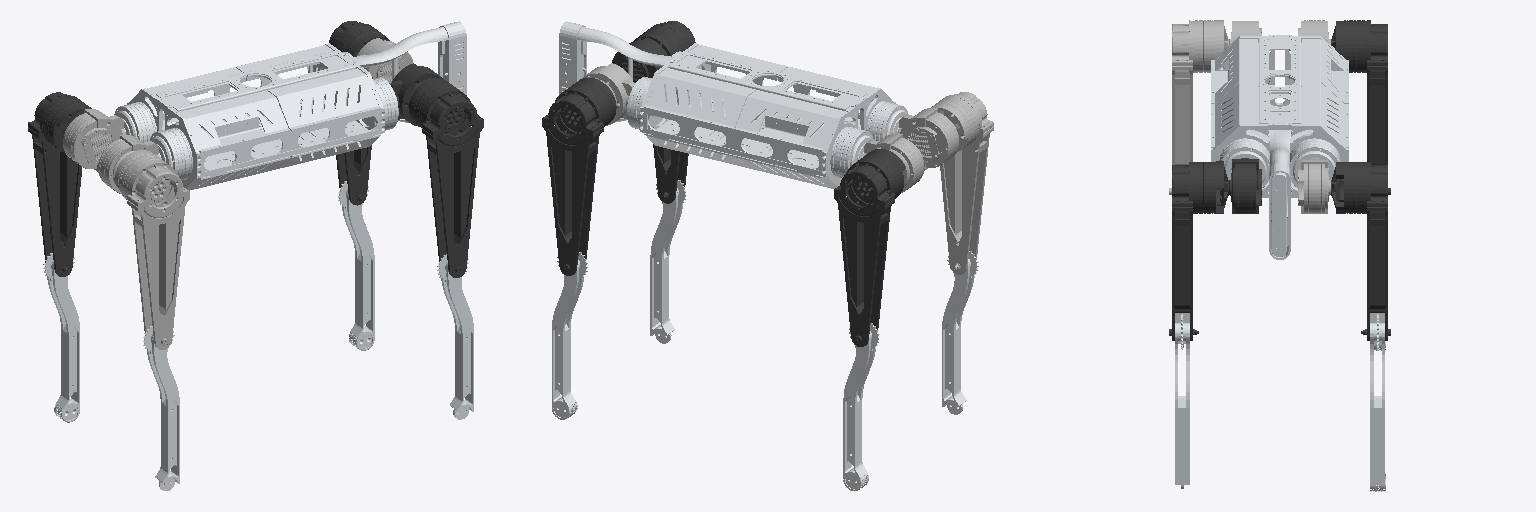
URDF robot description (scotty_description):
<?xml version="1.0" encoding="utf-8"?>
<!-- This URDF was automatically created by SolidWorks to URDF Exporter! Originally created by [author] ([email redacted]) 
     Commit Version: 1.6.0-4-g7f85cfe  Build Version: 1.6.7995.38578
     For more information, please see http://wiki.ros.org/sw_urdf_exporter -->
<robot
  name="scotty_description">
  <link
    name="base_link">
    <inertial>
      <origin
        xyz="0.0314483846788916 -6.55218724121662E-05 0.0248392392910642"
        rpy="0 0 0" />
      <mass
        value="3.85607896940888" />
      <inertia
        ixx="0.0138867117837616"
        ixy="-2.90278660215377E-08"
        ixz="-2.58875884175343E-06"
        iyy="0.0172236043367669"
        iyz="-8.35666921709627E-09"
        izz="0.0236113226656801" />
    </inertial>
    <visual>
      <origin
        xyz="0 0 0"
        rpy="0 0 0" />
      <geometry>
        <mesh
          filename="package://scotty_description/meshes/base_link.STL" />
      </geometry>
      <material
        name="">
        <color
          rgba="0.898039215686275 0.917647058823529 0.929411764705882 1" />
      </material>
    </visual>
    <collision>
      <origin
        xyz="0 0 0"
        rpy="0 0 0" />
      <geometry>
        <mesh
          filename="package://scotty_description/meshes/base_link.STL" />
      </geometry>
    </collision>
  </link>
  <link
    name="abad_FR_link">
    <inertial>
      <origin
        xyz="0.0589056087369735 -0.000893751193795894 1.31027647427551E-05"
        rpy="0 0 0" />
      <mass
        value="0.415086541078643" />
      <inertia
        ixx="0.000347299510368134"
        ixy="-9.24015776265909E-07"
        ixz="-1.74428373569239E-07"
        iyy="0.000490589240902945"
        iyz="1.49882254445195E-08"
        izz="0.000292030535672053" />
    </inertial>
    <visual>
      <origin
        xyz="0 0 0"
        rpy="0 0 0" />
      <geometry>
        <mesh
          filename="package://scotty_description/meshes/abad_FR_link.STL" />
      </geometry>
      <material
        name="">
        <color
          rgba="0.298039215686275 0.298039215686275 0.298039215686275 1" />
      </material>
    </visual>
    <collision>
      <origin
        xyz="0 0 0"
        rpy="0 0 0" />
      <geometry>
        <mesh
          filename="package://scotty_description/meshes/abad_FR_link.STL" />
      </geometry>
    </collision>
  </link>
  <joint
    name="abad_FR_joint"
    type="revolute">
    <origin
      xyz="0.2485 -0.065 0.025"
      rpy="0 0 0" />
    <parent
      link="base_link" />
    <child
      link="abad_FR_link" />
    <axis
      xyz="1 0 0" />
    <limit
      lower="-0.65"
      upper="0.65"
      effort="25"
      velocity="3" />
  </joint>
  <link
    name="hip_FR_link">
    <inertial>
      <origin
        xyz="-0.000456154664474892 -0.0698896205031284 -0.0639468843908812"
        rpy="0 0 0" />
      <mass
        value="1.05302815476358" />
      <inertia
        ixx="0.00387984063210811"
        ixy="-1.21559516987344E-06"
        ixz="-5.21353454625218E-06"
        iyy="0.00443119515122231"
        iyz="-1.22999714185811E-06"
        izz="0.000775321583761757" />
    </inertial>
    <visual>
      <origin
        xyz="0 0 0"
        rpy="0 0 0" />
      <geometry>
        <mesh
          filename="package://scotty_description/meshes/hip_FR_link.STL" />
      </geometry>
      <material
        name="">
        <color
          rgba="0.298039215686275 0.298039215686275 0.298039215686275 1" />
      </material>
    </visual>
    <collision>
      <origin
        xyz="0 0 0"
        rpy="0 0 0" />
      <geometry>
        <mesh
          filename="package://scotty_description/meshes/hip_FR_link.STL" />
      </geometry>
    </collision>
  </link>
  <joint
    name="hip_FR_joint"
    type="revolute">
    <origin
      xyz="0.065 -0.03 0"
      rpy="0 0 0" />
    <parent
      link="abad_FR_link" />
    <child
      link="hip_FR_link" />
    <axis
      xyz="0 1 0" />
    <limit
      lower="-1.25"
      upper="1.8"
      effort="50"
      velocity="3" />
  </joint>
  <link
    name="knee_FR_link">
    <inertial>
      <origin
        xyz="0.0164835065596182 -0.0013627043911752 -0.153846648019093"
        rpy="0 0 0" />
      <mass
        value="0.367874494498672" />
      <inertia
        ixx="0.00262374429195262"
        ixy="-1.08195990780416E-09"
        ixz="0.000246070252835904"
        iyy="0.00268159880702631"
        iyz="-4.03703953581917E-09"
        izz="7.25195050257749E-05" />
    </inertial>
    <visual>
      <origin
        xyz="0 0 0"
        rpy="0 0 0" />
      <geometry>
        <mesh
          filename="package://scotty_description/meshes/knee_FR_link.STL" />
      </geometry>
      <material
        name="">
        <color
          rgba="0.898039215686275 0.917647058823529 0.929411764705882 1" />
      </material>
    </visual>
    <collision>
      <origin
        xyz="0 0 0"
        rpy="0 0 0" />
      <geometry>
        <mesh
          filename="package://scotty_description/meshes/knee_FR_link.STL" />
      </geometry>
    </collision>
  </link>
  <joint
    name="knee_FR_joint"
    type="revolute">
    <origin
      xyz="0 -0.087405 -0.3"
      rpy="0 0 0" />
    <parent
      link="hip_FR_link" />
    <child
      link="knee_FR_link" />
    <axis
      xyz="0 1 0" />
    <limit
      lower="-2.5"
      upper="0"
      effort="50"
      velocity="3" />
  </joint>
  <link
    name="abad_FL_link">
    <inertial>
      <origin
        xyz="0.05890560854102 0.000893751392354647 -1.31070407718629E-05"
        rpy="0 0 0" />
      <mass
        value="0.415086538333225" />
      <inertia
        ixx="0.000347299510088798"
        ixy="9.24015742187451E-07"
        ixz="1.74423512564253E-07"
        iyy="0.000490589238662559"
        iyz="1.49881716375163E-08"
        izz="0.000292030533706022" />
    </inertial>
    <visual>
      <origin
        xyz="0 0 0"
        rpy="0 0 0" />
      <geometry>
        <mesh
          filename="package://scotty_description/meshes/abad_FL_link.STL" />
      </geometry>
      <material
        name="">
        <color
          rgba="0.752941176470588 0.752941176470588 0.752941176470588 1" />
      </material>
    </visual>
    <collision>
      <origin
        xyz="0 0 0"
        rpy="0 0 0" />
      <geometry>
        <mesh
          filename="package://scotty_description/meshes/abad_FL_link.STL" />
      </geometry>
    </collision>
  </link>
  <joint
    name="abad_FL_joint"
    type="revolute">
    <origin
      xyz="0.2485 0.065 0.025"
      rpy="0 0 0" />
    <parent
      link="base_link" />
    <child
      link="abad_FL_link" />
    <axis
      xyz="1 0 0" />
    <limit
      lower="-0.65"
      upper="0.65"
      effort="25"
      velocity="3" />
  </joint>
  <link
    name="hip_FL_link">
    <inertial>
      <origin
        xyz="-0.000456157514379579 0.0698896203636033 -0.064200499986891"
        rpy="0 0 0" />
      <mass
        value="1.05302815750899" />
      <inertia
        ixx="0.00387984063279086"
        ixy="1.21560012449625E-06"
        ixz="5.21342074080021E-06"
        iyy="0.0044311951534627"
        iyz="1.86326216107651E-06"
        izz="0.000775321585324375" />
    </inertial>
    <visual>
      <origin
        xyz="0 0 0"
        rpy="0 0 0" />
      <geometry>
        <mesh
          filename="package://scotty_description/meshes/hip_FL_link.STL" />
      </geometry>
      <material
        name="">
        <color
          rgba="0.298039215686275 0.298039215686275 0.298039215686275 1" />
      </material>
    </visual>
    <collision>
      <origin
        xyz="0 0 0"
        rpy="0 0 0" />
      <geometry>
        <mesh
          filename="package://scotty_description/meshes/hip_FL_link.STL" />
      </geometry>
    </collision>
  </link>
  <joint
    name="hip_FL_joint"
    type="revolute">
    <origin
      xyz="0.065 0.03 0"
      rpy="0 0 0" />
    <parent
      link="abad_FL_link" />
    <child
      link="hip_FL_link" />
    <axis
      xyz="0 1 0" />
    <limit
      lower="-1.25"
      upper="1.8"
      effort="50"
      velocity="3" />
  </joint>
  <link
    name="knee_FL_link">
    <inertial>
      <origin
        xyz="0.0164835065607707 0.00136979747534019 -0.153846648020307"
        rpy="0 0 0" />
      <mass
        value="0.367874494498672" />
      <inertia
        ixx="0.00262374429195376"
        ixy="-1.08195805869797E-09"
        ixz="0.00024607025283367"
        iyy="0.00268159880702632"
        iyz="-4.03703764929651E-09"
        izz="7.2519505024648E-05" />
    </inertial>
    <visual>
      <origin
        xyz="0 0 0"
        rpy="0 0 0" />
      <geometry>
        <mesh
          filename="package://scotty_description/meshes/knee_FL_link.STL" />
      </geometry>
      <material
        name="">
        <color
          rgba="0.898039215686275 0.917647058823529 0.929411764705882 1" />
      </material>
    </visual>
    <collision>
      <origin
        xyz="0 0 0"
        rpy="0 0 0" />
      <geometry>
        <mesh
          filename="package://scotty_description/meshes/knee_FL_link.STL" />
      </geometry>
    </collision>
  </link>
  <joint
    name="knee_FL_joint"
    type="revolute">
    <origin
      xyz="0 0.087405 -0.3"
      rpy="0 0 0" />
    <parent
      link="hip_FL_link" />
    <child
      link="knee_FL_link" />
    <axis
      xyz="0 1 0" />
    <limit
      lower="-2.5"
      upper="0"
      effort="50"
      velocity="3" />
  </joint>
  <link
    name="abad_RR_link">
    <inertial>
      <origin
        xyz="-0.0589056087364921 -0.000893751193796241 -1.31049387939929E-05"
        rpy="0 0 0" />
      <mass
        value="0.415086541078617" />
      <inertia
        ixx="0.000347299510381008"
        ixy="9.24015776818508E-07"
        ixz="-1.74426333713997E-07"
        iyy="0.000490589240902941"
        iyz="-1.49881913351498E-08"
        izz="0.000292030535659179" />
    </inertial>
    <visual>
      <origin
        xyz="0 0 0"
        rpy="0 0 0" />
      <geometry>
        <mesh
          filename="package://scotty_description/meshes/abad_RR_link.STL" />
      </geometry>
      <material
        name="">
        <color
          rgba="0.752941176470588 0.752941176470588 0.752941176470588 1" />
      </material>
    </visual>
    <collision>
      <origin
        xyz="0 0 0"
        rpy="0 0 0" />
      <geometry>
        <mesh
          filename="package://scotty_description/meshes/abad_RR_link.STL" />
      </geometry>
    </collision>
  </link>
  <joint
    name="abad_RR_joint"
    type="revolute">
    <origin
      xyz="-0.2485 -0.065 0.025"
      rpy="0 0 0" />
    <parent
      link="base_link" />
    <child
      link="abad_RR_link" />
    <axis
      xyz="1 0 0" />
    <limit
      lower="-0.65"
      upper="0.65"
      effort="25"
      velocity="3" />
  </joint>
  <link
    name="hip_RR_link">
    <inertial>
      <origin
        xyz="0.000337894221847379 -0.0698896203602006 -0.0637420543515784"
        rpy="0 0 0" />
      <mass
        value="1.05302815757229" />
      <inertia
        ixx="0.00387138194603533"
        ixy="8.8201303044837E-07"
        ixz="1.00971190970239E-05"
        iyy="0.0044311951535269"
        iyz="-6.52207544665015E-07"
        izz="0.000783780272143608" />
    </inertial>
    <visual>
      <origin
        xyz="0 0 0"
        rpy="0 0 0" />
      <geometry>
        <mesh
          filename="package://scotty_description/meshes/hip_RR_link.STL" />
      </geometry>
      <material
        name="">
        <color
          rgba="0.752941176470588 0.752941176470588 0.752941176470588 1" />
      </material>
    </visual>
    <collision>
      <origin
        xyz="0 0 0"
        rpy="0 0 0" />
      <geometry>
        <mesh
          filename="package://scotty_description/meshes/hip_RR_link.STL" />
      </geometry>
    </collision>
  </link>
  <joint
    name="hip_RR_joint"
    type="revolute">
    <origin
      xyz="-0.065 -0.03 0"
      rpy="0 0 0" />
    <parent
      link="abad_RR_link" />
    <child
      link="hip_RR_link" />
    <axis
      xyz="0 1 0" />
    <limit
      lower="-1.25"
      upper="1.8"
      effort="50"
      velocity="3" />
  </joint>
  <link
    name="knee_RR_link">
    <inertial>
      <origin
        xyz="0.0164835008826912 -0.00136270439117511 -0.153846648628661"
        rpy="0 0 0" />
      <mass
        value="0.367874494498672" />
      <inertia
        ixx="0.00262374431011734"
        ixy="-1.08195820749471E-09"
        ixz="0.000246070158674825"
        iyy="0.00268159880702633"
        iyz="-4.03703761210357E-09"
        izz="7.25194868610689E-05" />
    </inertial>
    <visual>
      <origin
        xyz="0 0 0"
        rpy="0 0 0" />
      <geometry>
        <mesh
          filename="package://scotty_description/meshes/knee_RR_link.STL" />
      </geometry>
      <material
        name="">
        <color
          rgba="0.898039215686275 0.917647058823529 0.929411764705882 1" />
      </material>
    </visual>
    <collision>
      <origin
        xyz="0 0 0"
        rpy="0 0 0" />
      <geometry>
        <mesh
          filename="package://scotty_description/meshes/knee_RR_link.STL" />
      </geometry>
    </collision>
  </link>
  <joint
    name="knee_RR_joint"
    type="revolute">
    <origin
      xyz="0 -0.087405 -0.3"
      rpy="0 0 0" />
    <parent
      link="hip_RR_link" />
    <child
      link="knee_RR_link" />
    <axis
      xyz="0 1 0" />
    <limit
      lower="-2.5"
      upper="0"
      effort="50"
      velocity="3" />
  </joint>
  <link
    name="abad_RL_link">
    <inertial>
      <origin
        xyz="-0.0589056085415005 0.000893751392353648 1.31048667230375E-05"
        rpy="0 0 0" />
      <mass
        value="0.415086538333242" />
      <inertia
        ixx="0.000347299510075886"
        ixy="-9.24015741630928E-07"
        ixz="1.74425552403158E-07"
        iyy="0.00049058923866253"
        iyz="-1.49882057398317E-08"
        izz="0.000292030533718918" />
    </inertial>
    <visual>
      <origin
        xyz="0 0 0"
        rpy="0 0 0" />
      <geometry>
        <mesh
          filename="package://scotty_description/meshes/abad_RL_link.STL" />
      </geometry>
      <material
        name="">
        <color
          rgba="0.752941176470588 0.752941176470588 0.752941176470588 1" />
      </material>
    </visual>
    <collision>
      <origin
        xyz="0 0 0"
        rpy="0 0 0" />
      <geometry>
        <mesh
          filename="package://scotty_description/meshes/abad_RL_link.STL" />
      </geometry>
    </collision>
  </link>
  <joint
    name="abad_RL_joint"
    type="revolute">
    <origin
      xyz="-0.2485 0.065 0.025"
      rpy="0 0 0" />
    <parent
      link="base_link" />
    <child
      link="abad_RL_link" />
    <axis
      xyz="1 0 0" />
    <limit
      lower="-0.65"
      upper="0.65"
      effort="25"
      velocity="3" />
  </joint>
  <link
    name="hip_RL_link">
    <inertial>
      <origin
        xyz="0.000456154664752351 0.0698896205031295 -0.0639468843923549"
        rpy="0 0 0" />
      <mass
        value="1.05302815476357" />
      <inertia
        ixx="0.00387984063210762"
        ixy="-1.2155951714069E-06"
        ixz="5.21353454653872E-06"
        iyy="0.00443119515122222"
        iyz="1.22999715081411E-06"
        izz="0.000775321583762167" />
    </inertial>
    <visual>
      <origin
        xyz="0 0 0"
        rpy="0 0 0" />
      <geometry>
        <mesh
          filename="package://scotty_description/meshes/hip_RL_link.STL" />
      </geometry>
      <material
        name="">
        <color
          rgba="0.298039215686275 0.298039215686275 0.298039215686275 1" />
      </material>
    </visual>
    <collision>
      <origin
        xyz="0 0 0"
        rpy="0 0 0" />
      <geometry>
        <mesh
          filename="package://scotty_description/meshes/hip_RL_link.STL" />
      </geometry>
    </collision>
  </link>
  <joint
    name="hip_RL_joint"
    type="revolute">
    <origin
      xyz="-0.065 0.03 0"
      rpy="0 0 0" />
    <parent
      link="abad_RL_link" />
    <child
      link="hip_RL_link" />
    <axis
      xyz="0 1 0" />
    <limit
      lower="-1.25"
      upper="1.8"
      effort="50"
      velocity="3" />
  </joint>
  <link
    name="knee_RL_link">
    <inertial>
      <origin
        xyz="0.0164835065607598 0.00142729560882487 -0.153846648020305"
        rpy="0 0 0" />
      <mass
        value="0.367874494498672" />
      <inertia
        ixx="0.00262374429195376"
        ixy="-1.08195805856593E-09"
        ixz="0.000246070252833701"
        iyy="0.00268159880702633"
        iyz="-4.03703765123224E-09"
        izz="7.25195050246535E-05" />
    </inertial>
    <visual>
      <origin
        xyz="0 0 0"
        rpy="0 0 0" />
      <geometry>
        <mesh
          filename="package://scotty_description/meshes/knee_RL_link.STL" />
      </geometry>
      <material
        name="">
        <color
          rgba="0.898039215686275 0.917647058823529 0.929411764705882 1" />
      </material>
    </visual>
    <collision>
      <origin
        xyz="0 0 0"
        rpy="0 0 0" />
      <geometry>
        <mesh
          filename="package://scotty_description/meshes/knee_RL_link.STL" />
      </geometry>
    </collision>
  </link>
  <joint
    name="knee_RL_joint"
    type="revolute">
    <origin
      xyz="0 0.087405 -0.3"
      rpy="0 0 0" />
    <parent
      link="hip_RL_link" />
    <child
      link="knee_RL_link" />
    <axis
      xyz="0 1 0" />
    <limit
      lower="-2.5"
      upper="0"
      effort="50"
      velocity="3" />
  </joint>
</robot>

--- Render facts (derived) ---
The picture shows the robot from 3 angles, left to right: view 1: azimuth 30°, elevation 25°; view 2: azimuth 150°, elevation 25°; view 3: azimuth 270°, elevation 25°; orthographic projection.
Robot: scotty_description — 13 links, 12 joints (12 revolute); root link base_link; default pose: every joint at zero.
Links seen in each view (by area): view 1: base_link, hip_FR_link, hip_RR_link, hip_RL_link, knee_FL_link, knee_RL_link, knee_RR_link, knee_FR_link, hip_FL_link, abad_RL_link, abad_RR_link, abad_FR_link (+1 smaller); view 2: base_link, hip_FL_link, hip_RL_link, hip_RR_link, knee_RL_link, knee_FL_link, knee_FR_link, knee_RR_link, hip_FR_link, abad_RR_link, abad_RL_link, abad_FL_link (+1 smaller); view 3: base_link, hip_FR_link, hip_FL_link, hip_RR_link, hip_RL_link, knee_FL_link, knee_FR_link, abad_FR_link, abad_FL_link.
Link boxes in pixels (x1=…): base_link: x1=114, y1=21, x2=466, y2=190; hip_FR_link: x1=409, y1=78, x2=483, y2=277; hip_RR_link: x1=114, y1=150, x2=189, y2=349; hip_RL_link: x1=28, y1=92, x2=91, y2=276; knee_FL_link: x1=338, y1=181, x2=374, y2=350; knee_RL_link: x1=43, y1=253, x2=79, y2=422; knee_RR_link: x1=143, y1=326, x2=179, y2=490; knee_FR_link: x1=437, y1=254, x2=473, y2=419; hip_FL_link: x1=329, y1=21, x2=389, y2=205; abad_RL_link: x1=63, y1=109, x2=124, y2=171; abad_RR_link: x1=98, y1=134, x2=160, y2=193; abad_FR_link: x1=390, y1=63, x2=442, y2=126; base_link: x1=559, y1=21, x2=908, y2=188; hip_FL_link: x1=542, y1=78, x2=616, y2=275; hip_RL_link: x1=834, y1=149, x2=905, y2=346; hip_RR_link: x1=931, y1=92, x2=993, y2=274; knee_RL_link: x1=843, y1=323, x2=879, y2=491; knee_FL_link: x1=552, y1=252, x2=588, y2=419; knee_FR_link: x1=650, y1=180, x2=686, y2=343; knee_RR_link: x1=942, y1=251, x2=978, y2=414; hip_FR_link: x1=634, y1=21, x2=695, y2=203; abad_RR_link: x1=897, y1=108, x2=958, y2=170; abad_RL_link: x1=863, y1=133, x2=924, y2=192; abad_FL_link: x1=582, y1=63, x2=634, y2=125; base_link: x1=1211, y1=35, x2=1348, y2=259; hip_FR_link: x1=1169, y1=161, x2=1228, y2=340; hip_FL_link: x1=1331, y1=162, x2=1390, y2=340; hip_RR_link: x1=1169, y1=20, x2=1228, y2=194; hip_RL_link: x1=1331, y1=20, x2=1390, y2=194; knee_FL_link: x1=1370, y1=314, x2=1385, y2=491; knee_FR_link: x1=1175, y1=314, x2=1189, y2=488; abad_FR_link: x1=1229, y1=158, x2=1261, y2=213; abad_FL_link: x1=1298, y1=158, x2=1330, y2=213.
Size in the robot's own frame: 0.8054 by 0.4186 by 0.7125 metres.
13 mesh visuals loaded from 13 distinct referenced files (13 binary STL).
